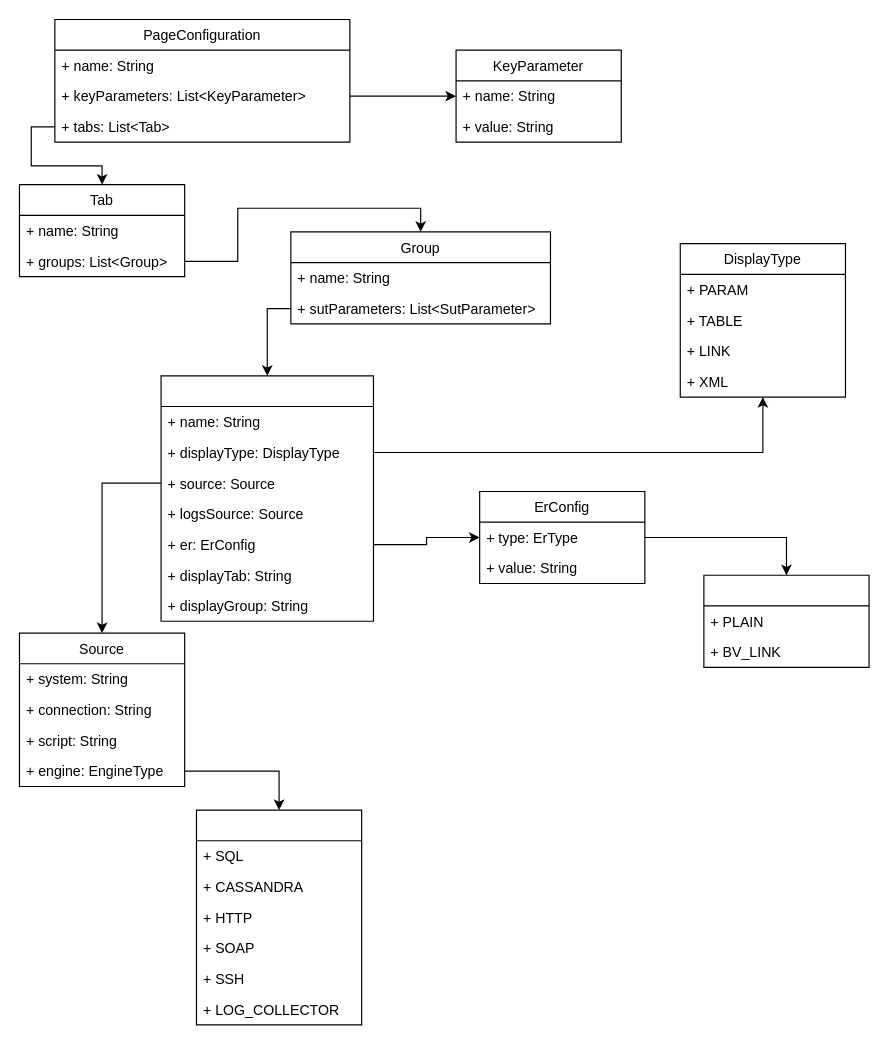
Image size: 889x1044. Some labels were removed from this diagram. Each missing label, with the box of its shape:
EngineType: (195, 809, 362, 1025)
ErType: (703, 574, 869, 667)
SutParameter: (160, 375, 373, 621)
